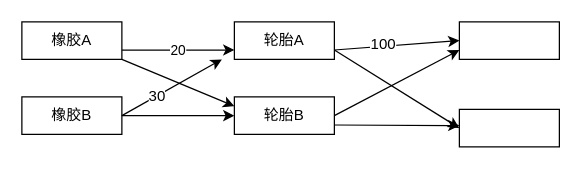
Some shapes in this 581 by 169 pixel diagram are drawn without their labels. Here are the shapes that lost their labels. From the top down, the centre of each, then its label:
At (508,40): "车企A".
At (508,127): "车企B".
